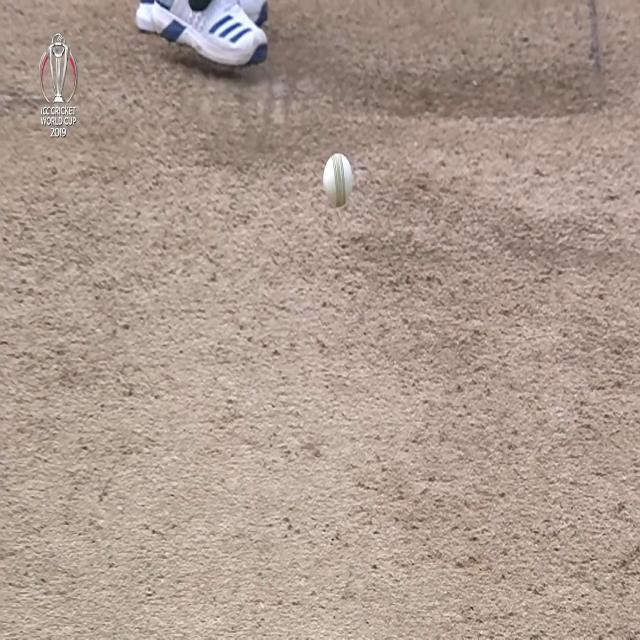Cricket ball: (321, 150, 354, 211)
